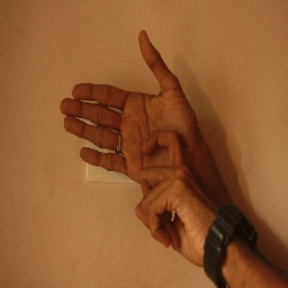R: (58, 28, 211, 235)
